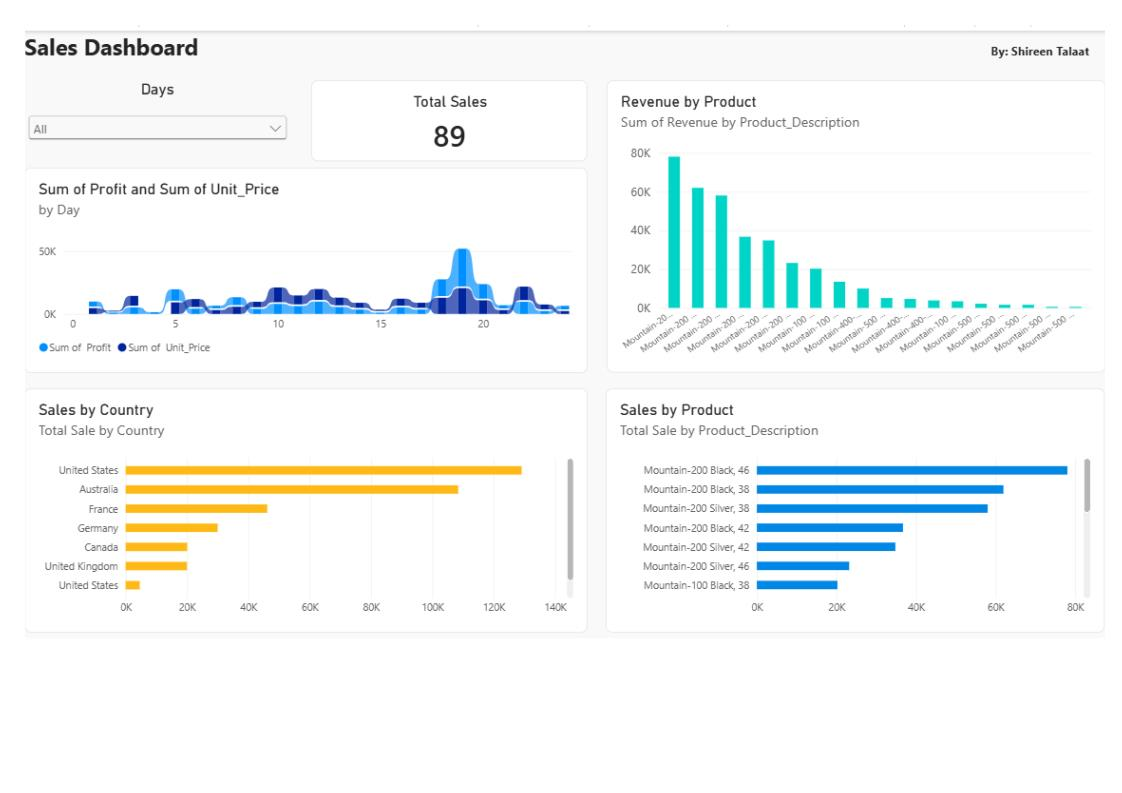

This screenshot's page, from the dashboard's own definition file:
{"tool":"powerbi","page":{"name":"Copy 1","canvas":[1280,720],"ordinal":2},"visuals":[{"type":"textbox","box":[0,0,1280,46.3],"z":0},{"type":"slicer","title":"Days","fields":{"Values":["Bike Sales.Date.Variation.Date Hierarchy.Day"]},"box":[0,58.3,315.6,82.5],"z":1000},{"type":"card","title":"Total Sales","fields":{"Values":["CountNonNull(Bike Sales.Sub_Category)"]},"box":[339.8,58.5,327.4,95.6],"z":2000},{"type":"ribbonChart","fields":{"Category":["Bike Sales.Date.Variation.Date Hierarchy.Day"],"Y":["Sum(Bike Sales. Profit )","Sum(Bike Sales. Unit_Price )"]},"box":[0,161.6,667.5,243],"z":3000},{"type":"columnChart","title":"Revenue by Product","fields":{"Category":["Bike Sales.Product_Description"],"Y":["Sum(Bike Sales.Revenue)"]},"box":[689.5,58.3,590.5,346.4],"z":4000},{"type":"clusteredBarChart","title":"Sales by Country","fields":{"Category":["Bike Sales.Country"],"Y":["Bike Sales.Total Sale"]},"box":[0,423.4,667.5,289.2],"z":5000},{"type":"clusteredBarChart","title":"Sales by Product","fields":{"Category":["Bike Sales.Product_Description"],"Y":["Bike Sales.Total Sale"]},"box":[689,423,591,289],"z":6000},{"type":"textbox","box":[1123.9,14.6,137.2,20.2],"z":6001}]}

Visuals, with their boxes on the page's 1280x720 design canvas (x1, y1, x2, y2). These are canvas units, not pixel positions in the 1122x793 screenshot, which may show the page scaled, cropped or inside an application window:
textbox: (left=0, top=0, right=1280, bottom=46)
"Days" slicer: (left=0, top=58, right=316, bottom=141)
"Total Sales" card: (left=340, top=58, right=667, bottom=154)
ribbonChart - Bike Sales.Date.Variation.Date Hierarchy.Day x Sum(Bike Sales. Profit ): (left=0, top=162, right=668, bottom=405)
"Revenue by Product" columnChart: (left=690, top=58, right=1280, bottom=405)
"Sales by Country" clusteredBarChart: (left=0, top=423, right=668, bottom=713)
"Sales by Product" clusteredBarChart: (left=689, top=423, right=1280, bottom=712)
textbox: (left=1124, top=15, right=1261, bottom=35)
